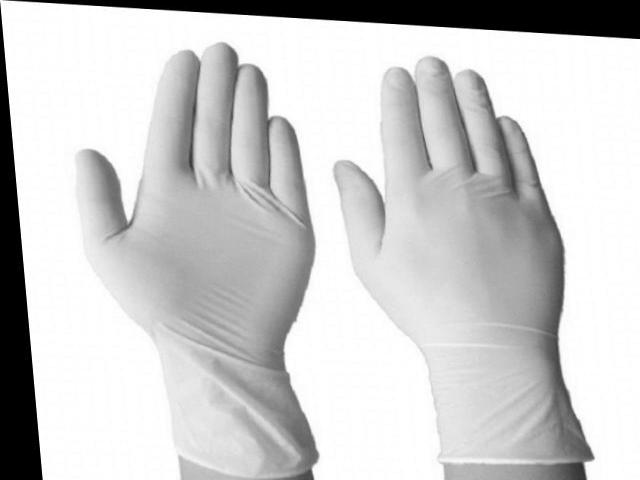gloved: (70, 41, 316, 369), (332, 54, 568, 386)
